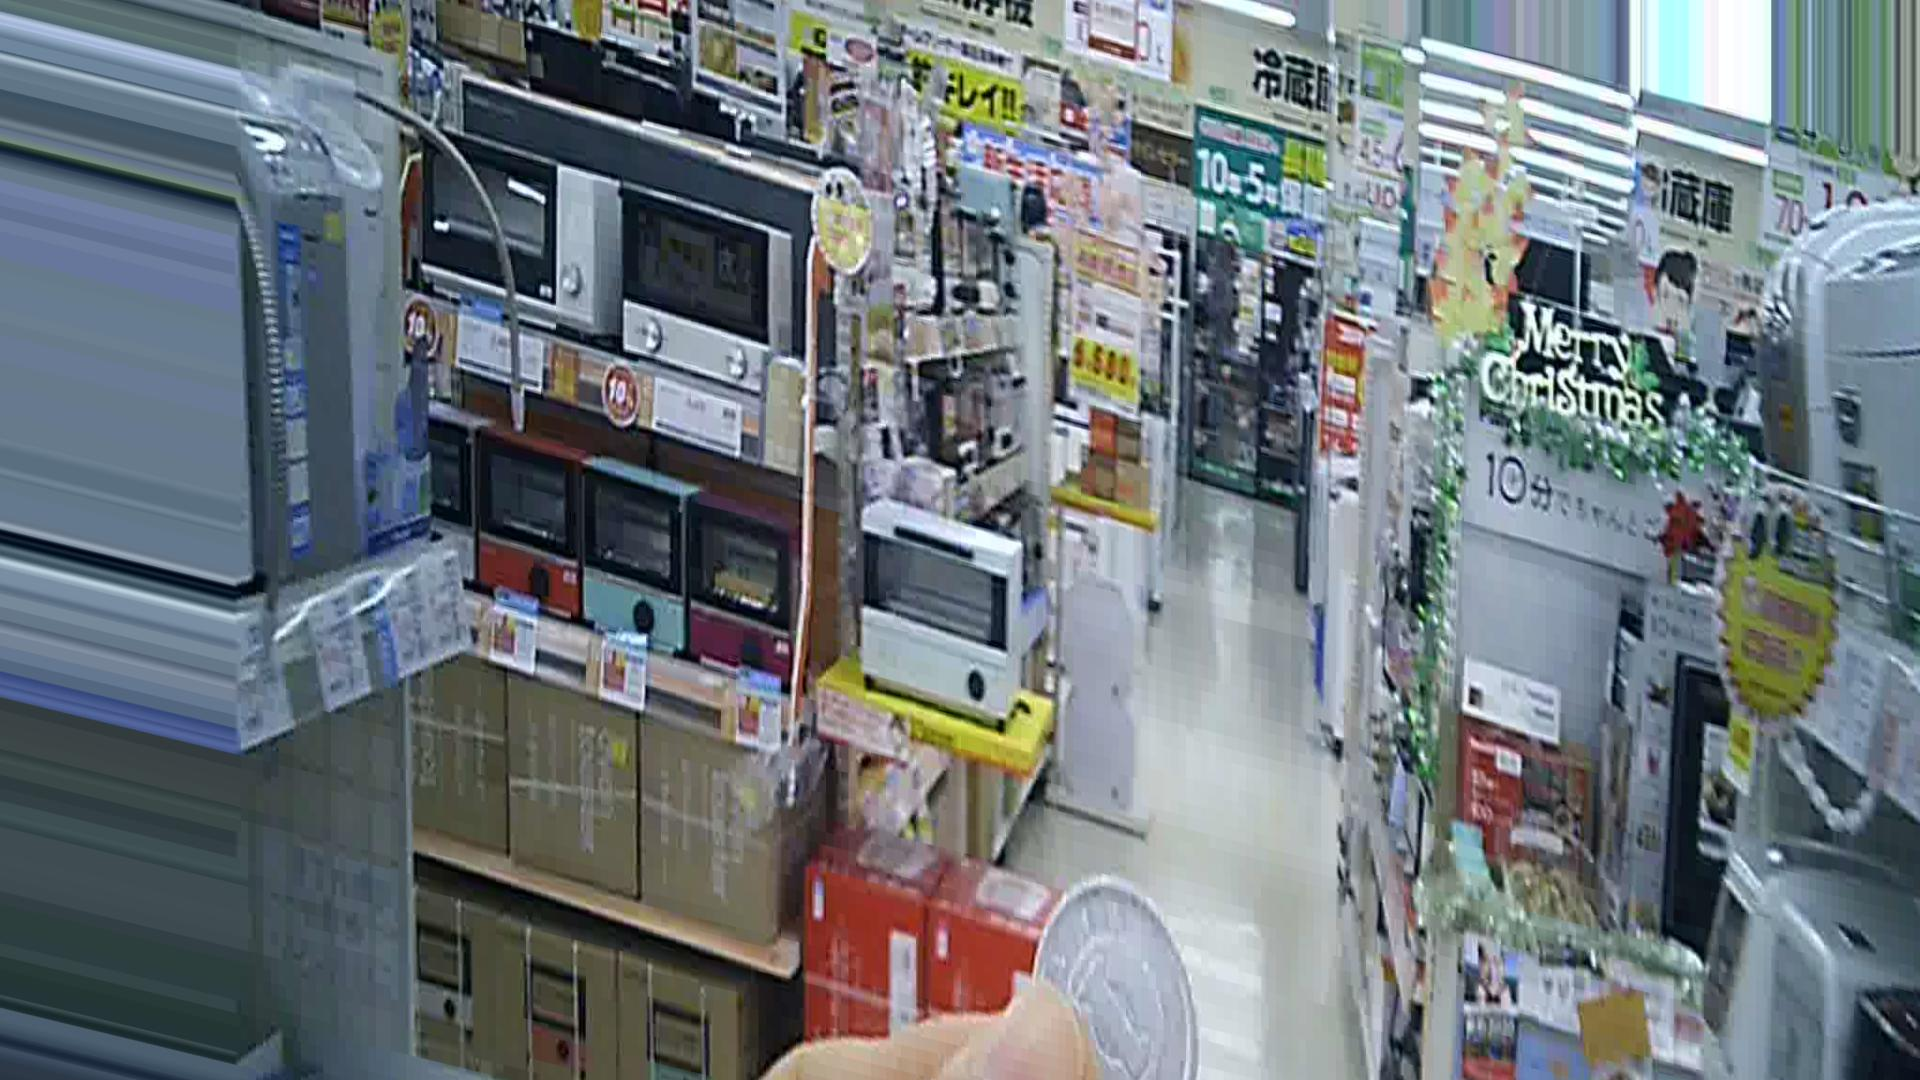1 Yen: (1019, 891, 1215, 1065)
